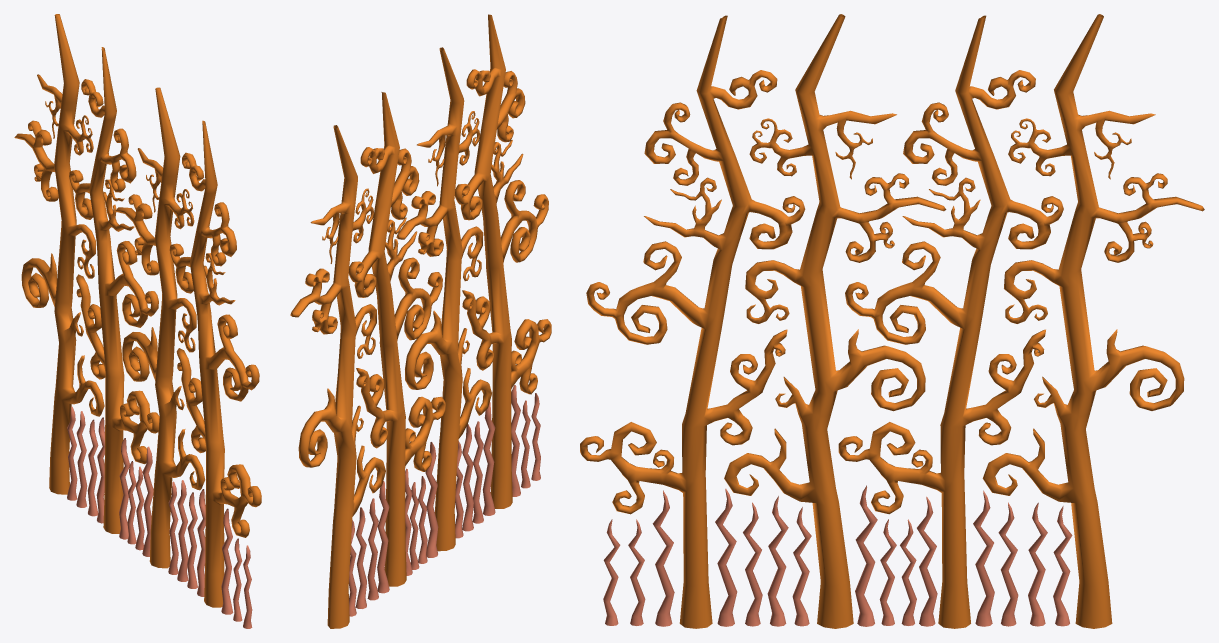
The model's file is Portal_Left_Posts.fbx.
3 renders of one model, left to right at view 1: azimuth 30°, elevation 25°; view 2: azimuth 150°, elevation 25°; view 3: azimuth 270°, elevation 25°, orthographic. The views are drawn at different scales.
Parts seen in each view (by area): view 1: Portal_Left_Posts; view 2: Portal_Left_Posts; view 3: Portal_Left_Posts.
Boxes of the visible parts, x1=… form: Portal_Left_Posts: x1=14, y1=14, x2=261, y2=628; Portal_Left_Posts: x1=290, y1=14, x2=551, y2=628; Portal_Left_Posts: x1=580, y1=14, x2=1204, y2=628.
Size of the model in its own units: 38.95 by 1013 by 942.
